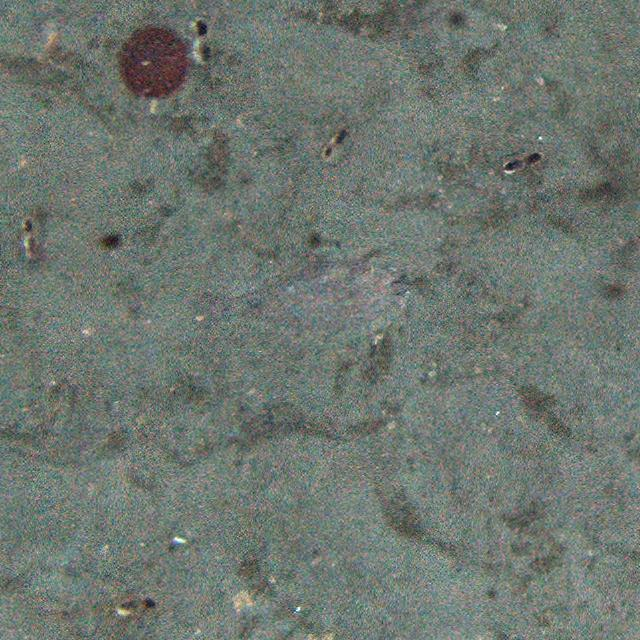flatfish: (208, 250, 420, 347)
